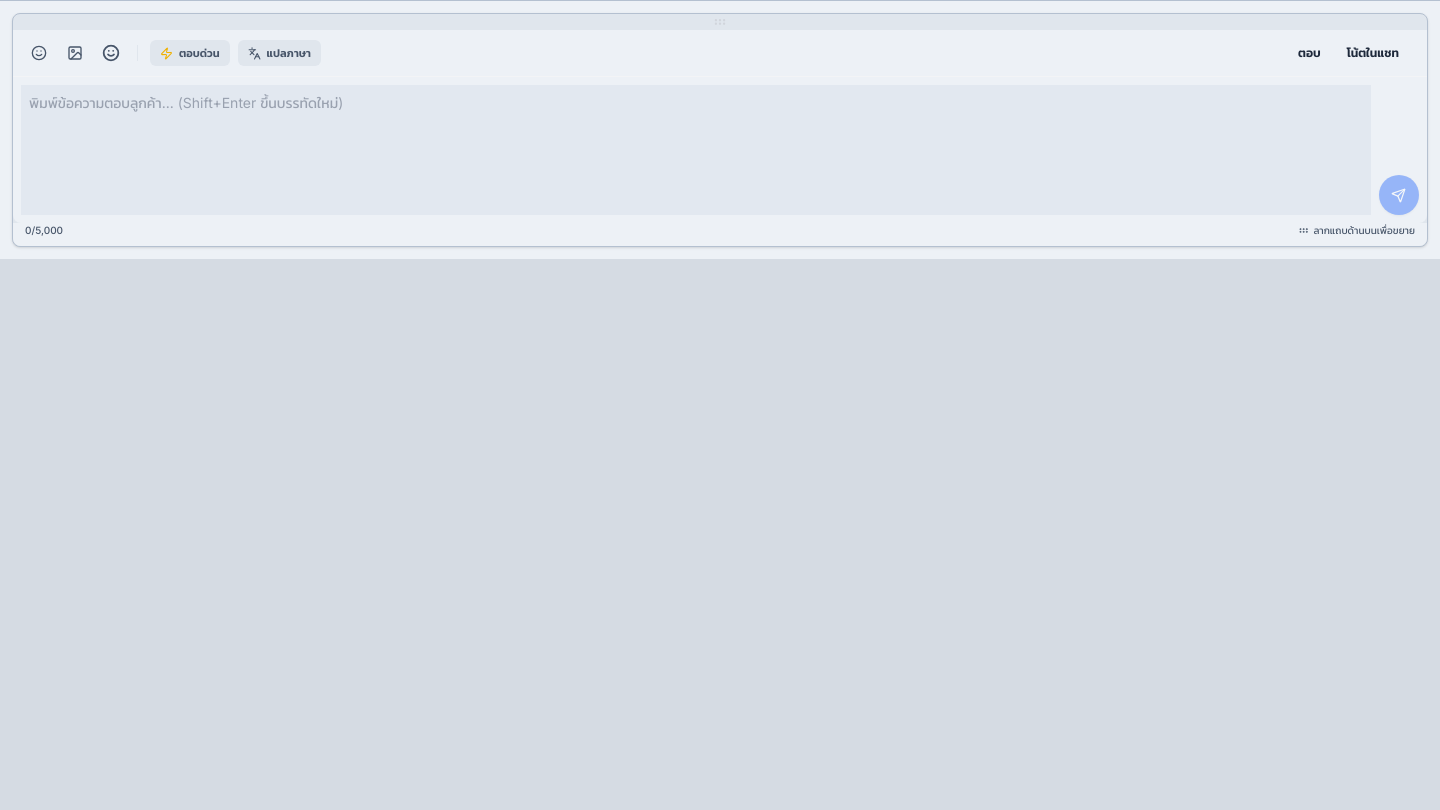
Test: [FEAT-20260918-AUTOSENDCONFIRM] the switch is ON — the first press asks › cancelling keeps the draft and still sends nothing
Type "ยอดเข้าแล้วครับ" into the text box with placeholder "พิมพ์ข้อความตอบลูกค้า... (Shift+Enter ขึ้นบรรทัดใหม่)" at [696, 150], box x1=21 y1=85 x2=1371 y2=215
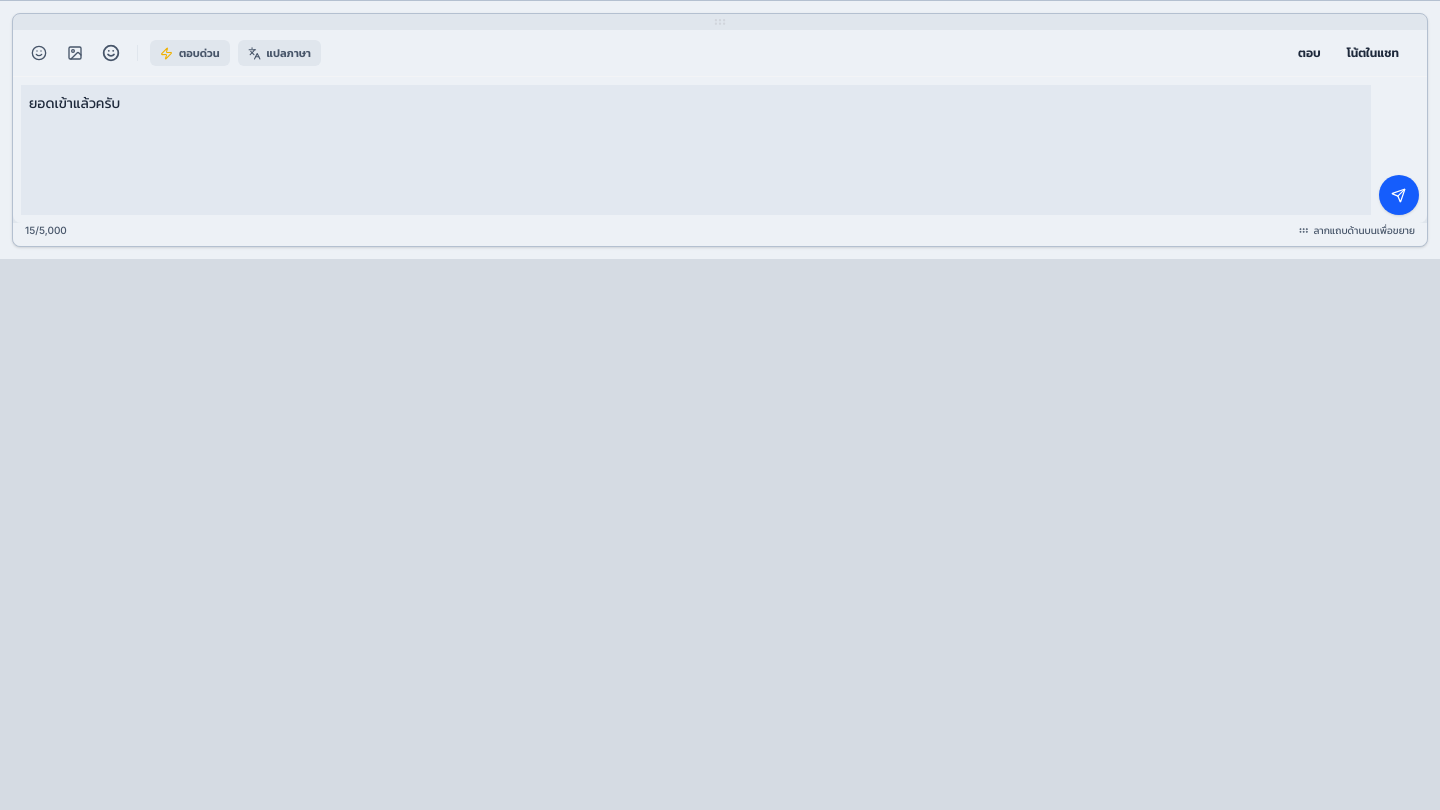
Click the button titled "ส่งถึงลูกค้า" at [1399, 195], box x1=1379 y1=175 x2=1419 y2=215
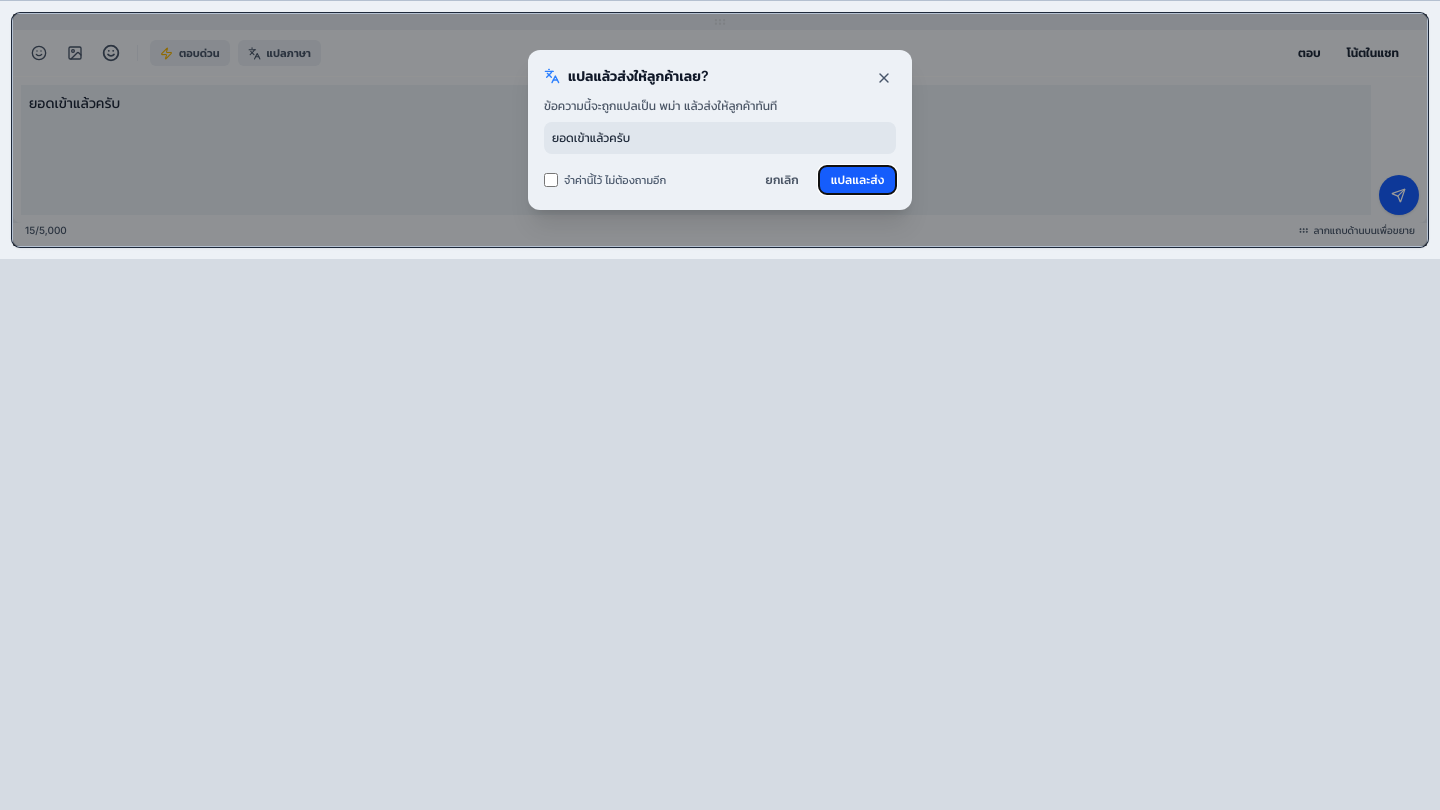
Click the button with test id "auto-send-confirm-cancel" at [782, 180], box x1=754 y1=166 x2=811 y2=194
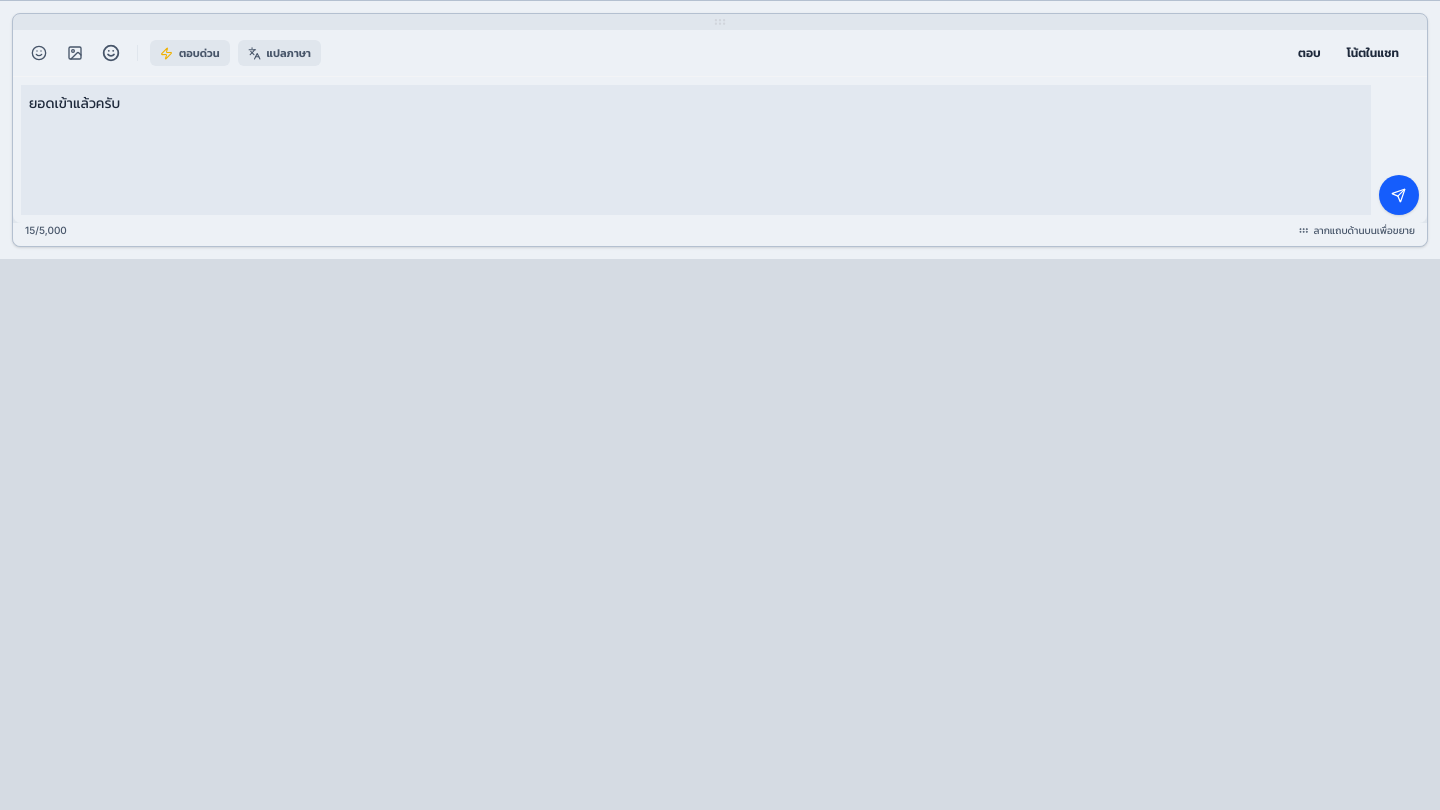
expect the dialog with test id "auto-send-confirm" is gone: met
